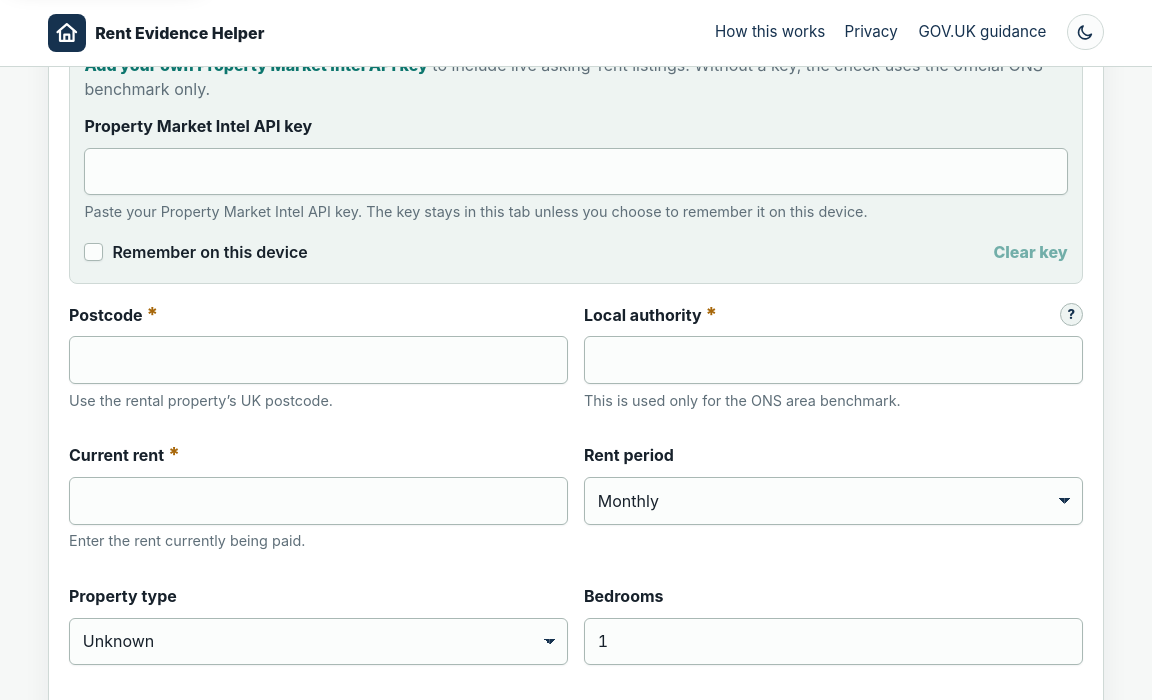
Test: App › blocks clearly unsupported non-England postcode areas
(page scrolled)
In the field labelled "Postcode *": (318, 360) left=69, top=336, right=568, bottom=384, type "SW12 8AA"
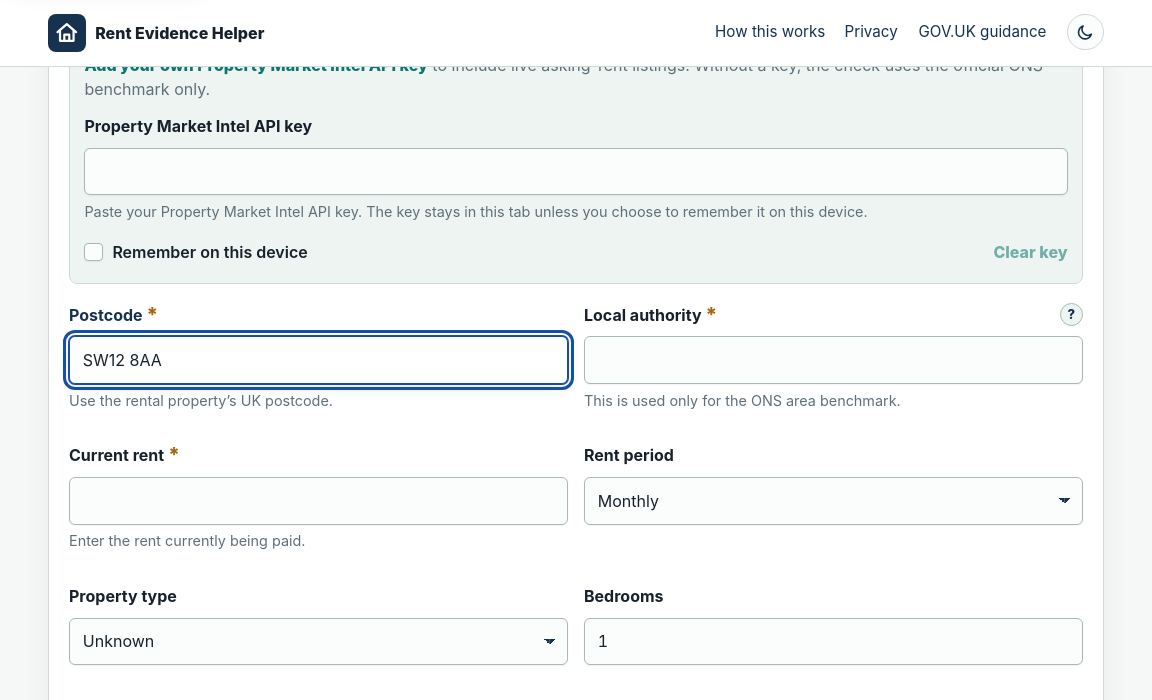
In the field labelled "Current rent *": (318, 501) left=69, top=477, right=568, bottom=525, type "2450"
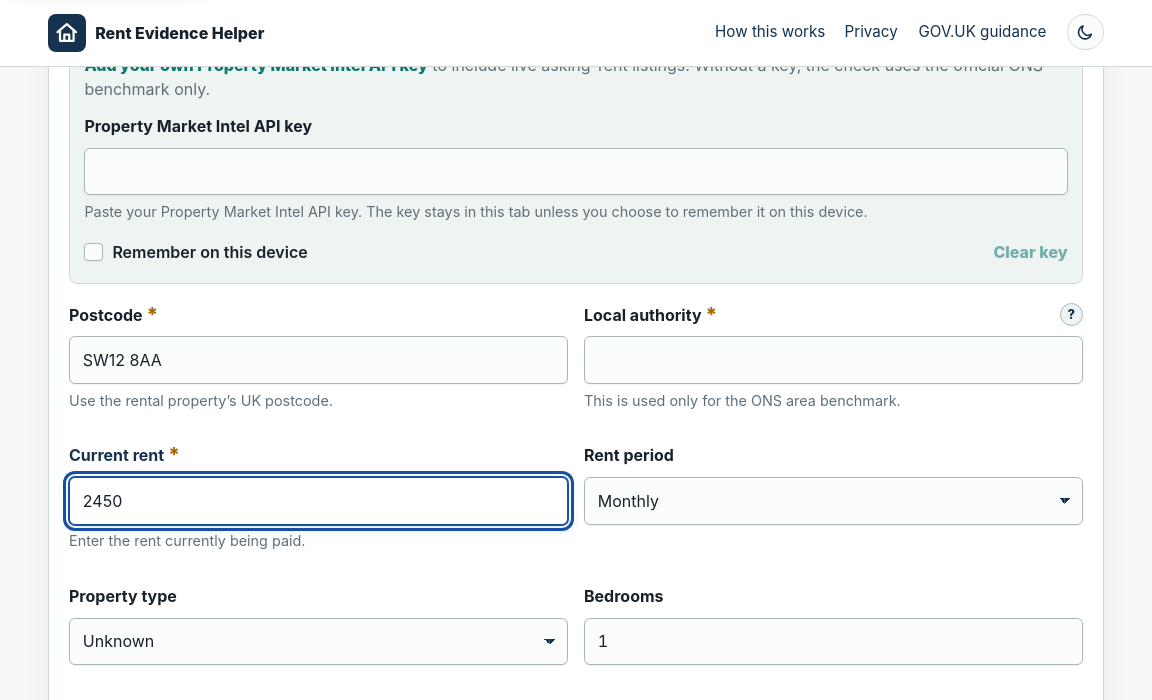
In the search field labelled "Local authority *": (834, 360) left=584, top=336, right=1083, bottom=384, type "Lambeth (London)"
(page scrolled)
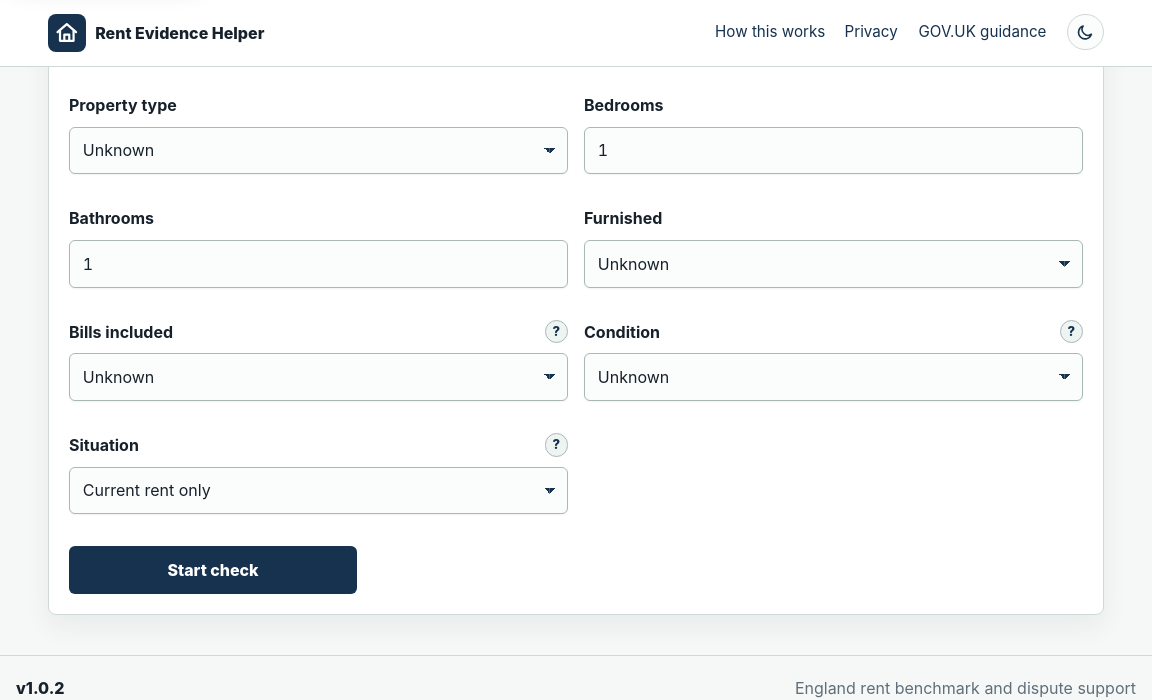
Click the button "Start check": (213, 570) left=69, top=546, right=357, bottom=594
(page scrolled)
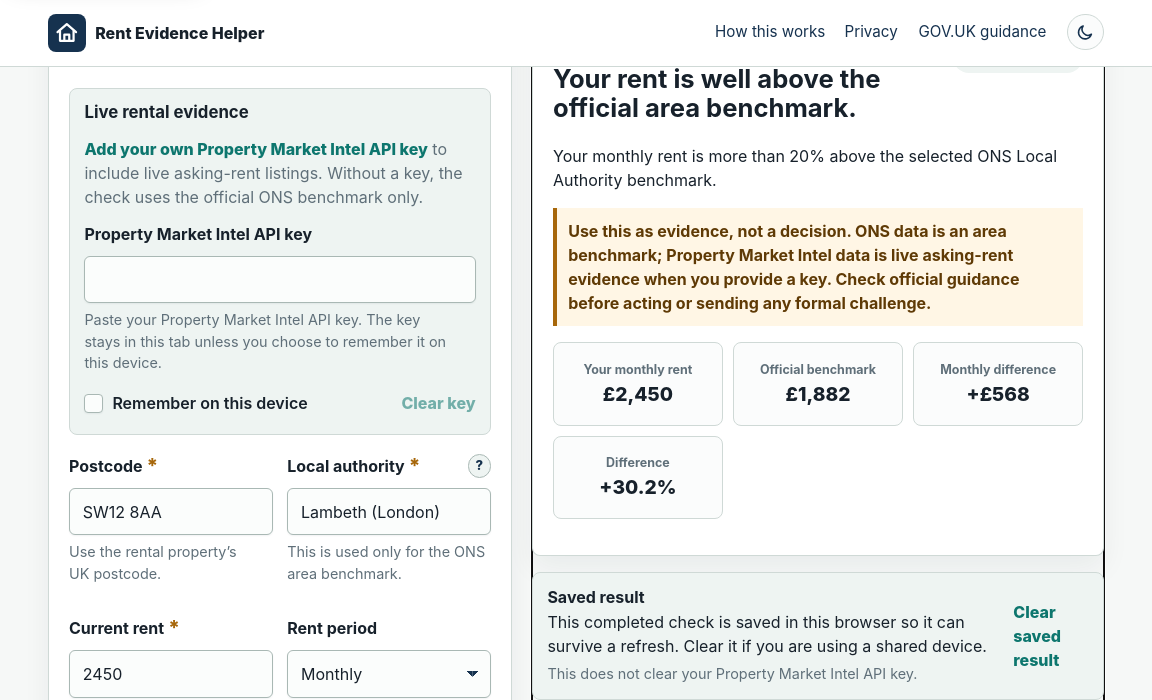
Replace the text in the field labelled "Postcode *" with "CF10 1EP": (171, 512) left=69, top=488, right=273, bottom=535
(page scrolled)
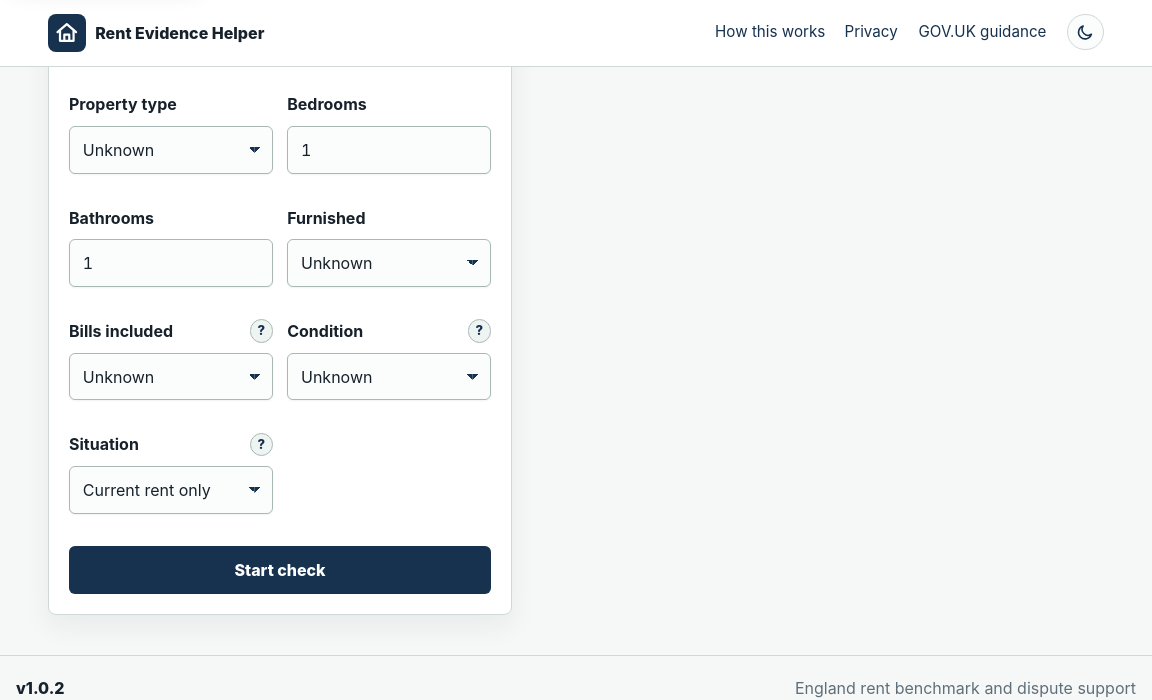
Click the button "Start check": (280, 570) left=69, top=546, right=491, bottom=594
(page scrolled)
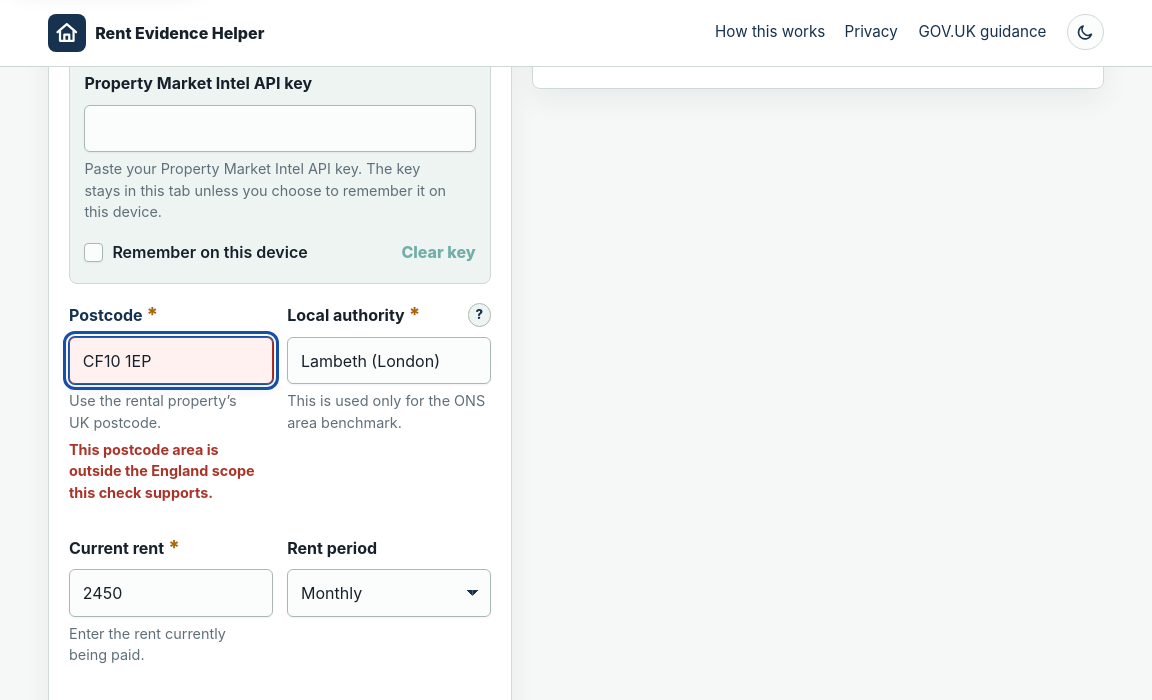
Expected: the heading "dispute support" is not shown
Expected: the text "outside the England scope" is shown, left=69, top=441, right=255, bottom=501
